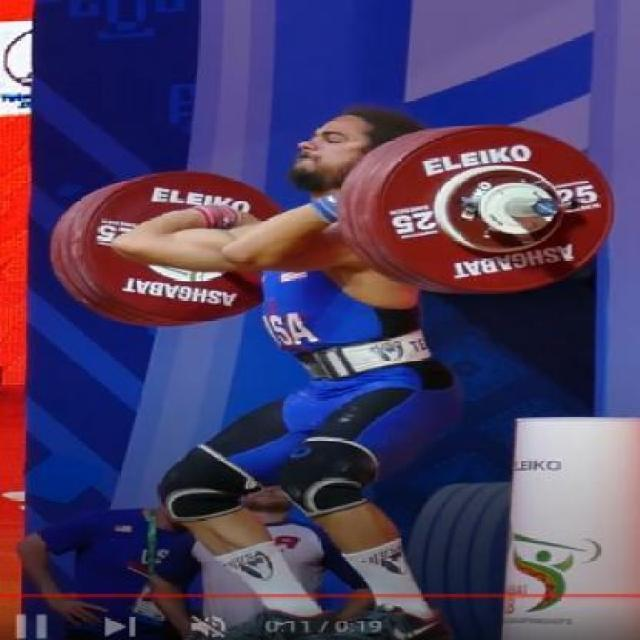barbell: (368, 124, 621, 300)
